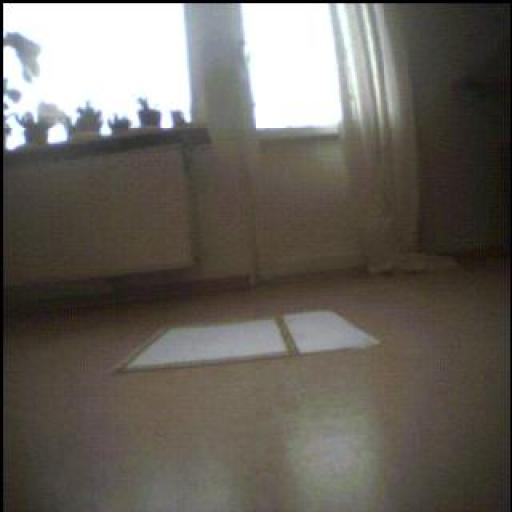Pad: (116, 307, 383, 371)
